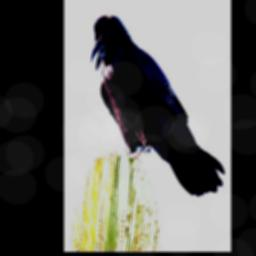Crow: (91, 15, 225, 197)
